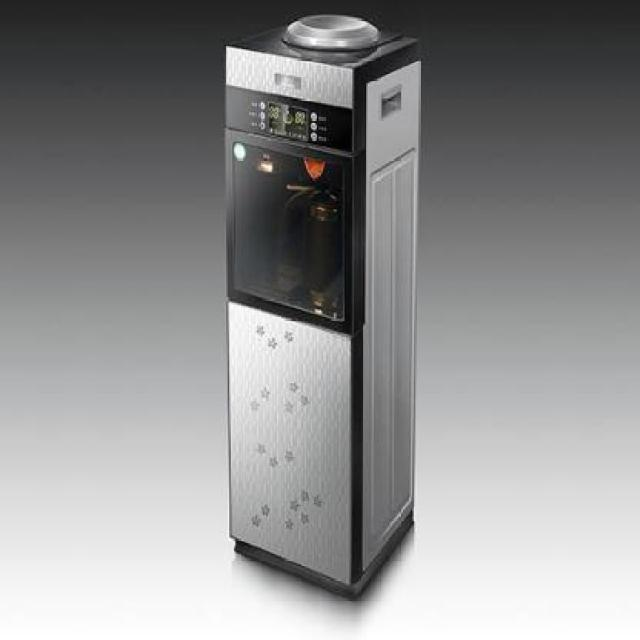cooler: (222, 11, 416, 602)
